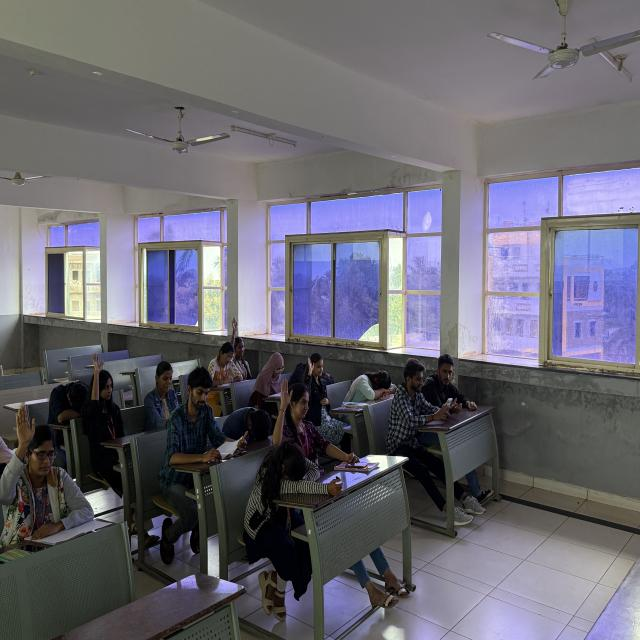Hand Rising: (0, 394, 80, 540), (84, 345, 133, 456), (268, 375, 328, 457), (226, 314, 257, 380)
Reading: (159, 367, 245, 480), (246, 352, 296, 409)
Sleeping: (236, 438, 348, 535), (218, 398, 279, 452), (339, 362, 404, 412), (41, 374, 94, 428)
Using Phone: (388, 354, 453, 462)
